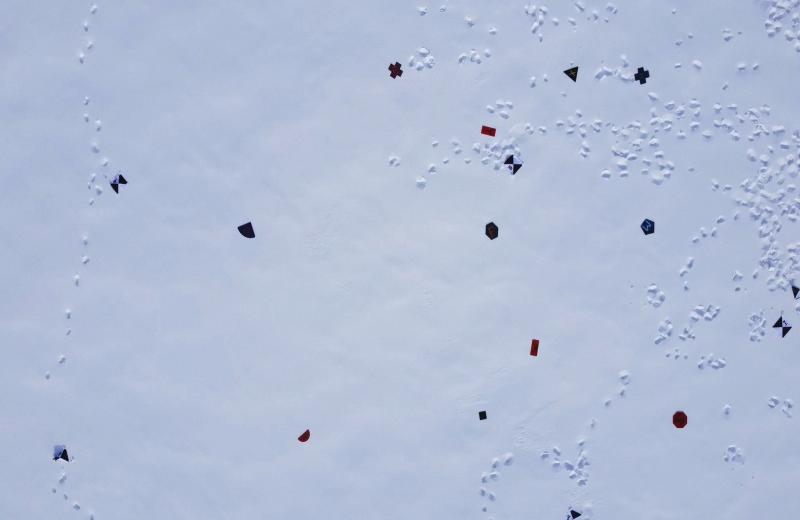Cross: (634, 67, 650, 84), (388, 61, 403, 79)
Hexagon: (484, 221, 499, 241)
Octagon: (672, 410, 688, 429)
Pentagon: (640, 218, 655, 238)
Quarter Circle: (236, 219, 256, 240)
Rectangle: (526, 338, 542, 356), (480, 124, 496, 138)
Semi Circle: (298, 428, 311, 445)
Square: (478, 409, 488, 422)
Triangle: (563, 64, 579, 84)
